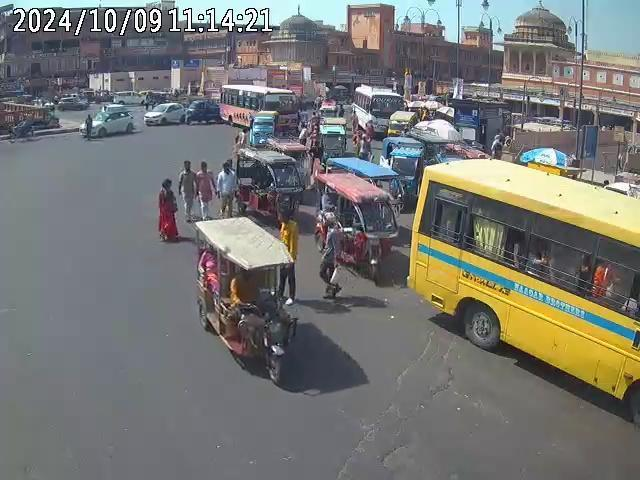auto: (192, 215, 296, 383), (313, 166, 398, 283), (238, 146, 300, 224), (251, 109, 276, 145)
bus: (409, 160, 640, 396), (218, 82, 302, 130), (351, 85, 405, 142)
car: (81, 102, 136, 138), (183, 97, 221, 124), (143, 102, 184, 125)
person: (278, 213, 300, 290), (156, 177, 180, 243), (216, 159, 237, 214), (178, 163, 197, 220), (197, 161, 215, 218), (590, 259, 611, 298), (232, 127, 247, 160)
